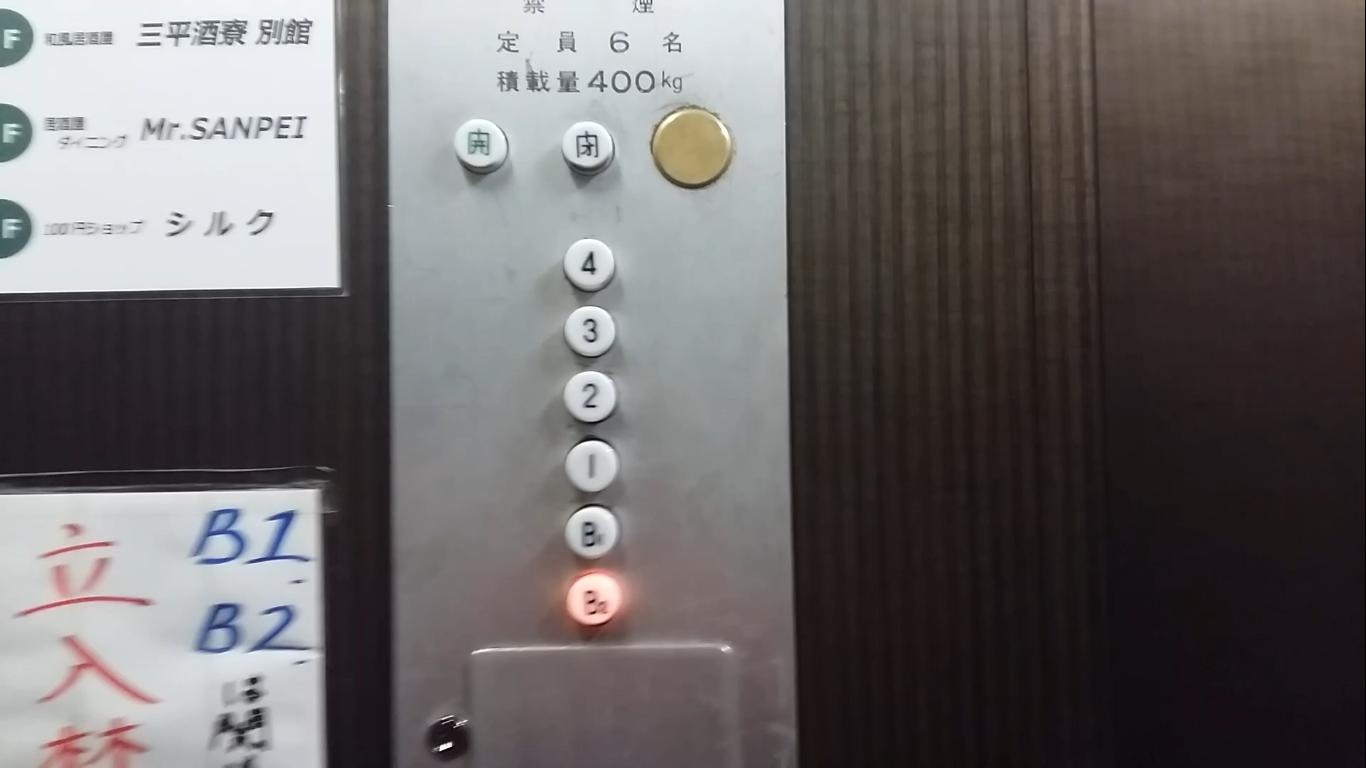1: (559, 436, 622, 495)
2: (558, 366, 621, 425)
3: (558, 301, 621, 360)
4: (558, 236, 621, 295)
B1: (559, 503, 622, 562)
B2: (564, 570, 627, 629)
empty: (643, 101, 739, 193)
text: (450, 117, 513, 176), (556, 118, 619, 177)
